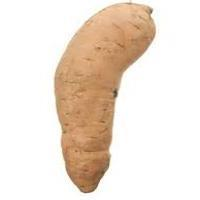biodegradable: (53, 1, 158, 194)
